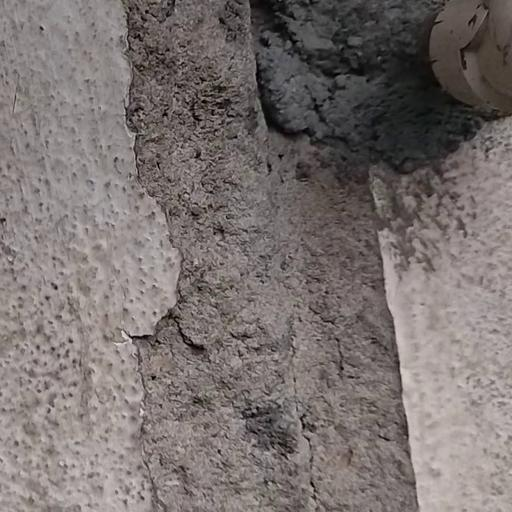spalling: (95, 0, 470, 512)
